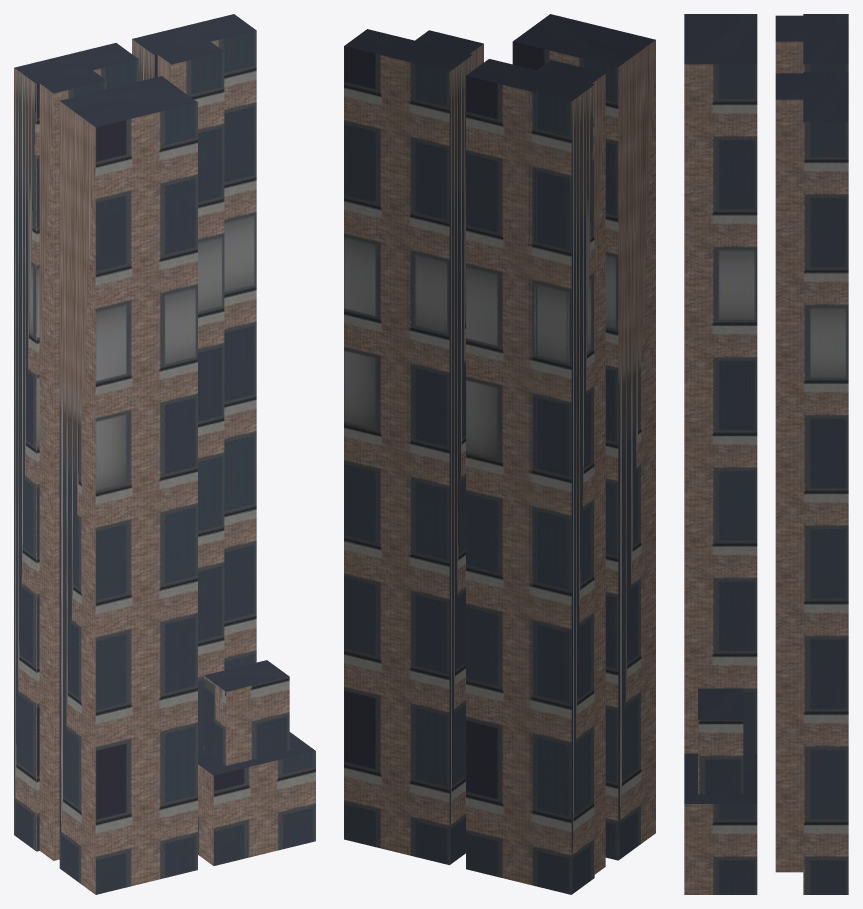
The model's file is city_block_12345_6_23.glb.
3 renders of one model, left to right at view 1: azimuth 30°, elevation 25°; view 2: azimuth 150°, elevation 25°; view 3: azimuth 270°, elevation 25°, orthographic. The views are drawn at different scales.
Parts seen in each view (by area): view 1: block_23; view 2: block_23; view 3: block_23.
Boxes of the visible parts, bbox=[...] form: block_23: bbox=[14, 14, 315, 894]; block_23: bbox=[344, 14, 655, 894]; block_23: bbox=[684, 14, 848, 894].
Size of the model in its own units: 4.2 by 14 by 2.7.
Materials: 4 (4 with a texture image).
